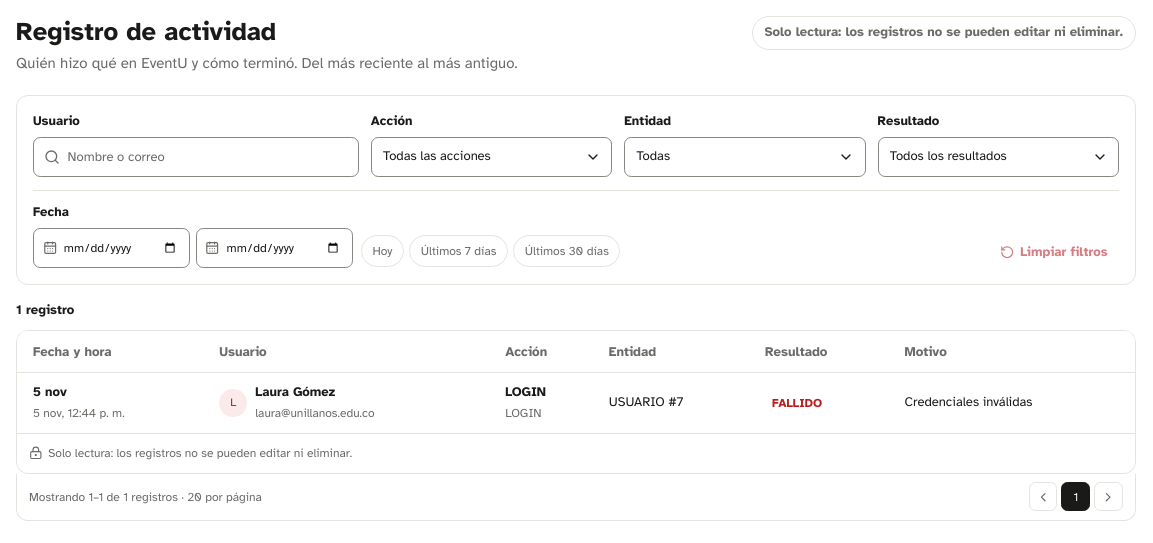
it: RegistroActividad › carga opciones y registros, y envía los filtros seleccionados al servicio
The width and height of the screenshot is (1153, 543).
Expected: the text "Laura Gómez" is shown, [255,384,335,400]
Expected: the table named "Registros de actividad" is shown, [17,331,1135,433]
Select "LOGIN" in the dropdown labelled "Acción": (492, 157) [371,137,612,177]
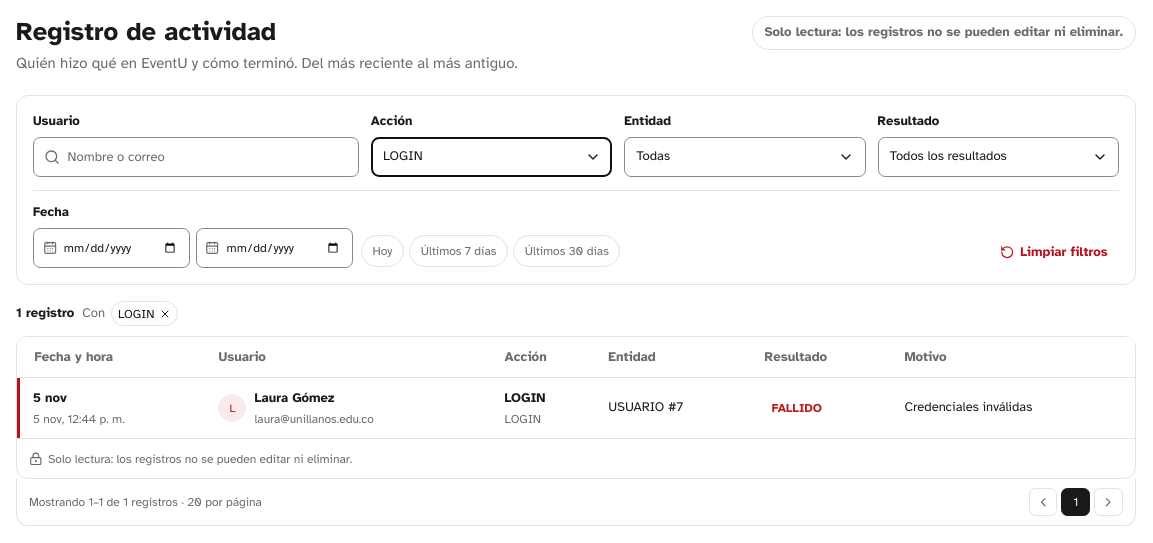
Expected: the button with aria-label "Quitar filtro: LOGIN" is shown, [111,301,178,326]
